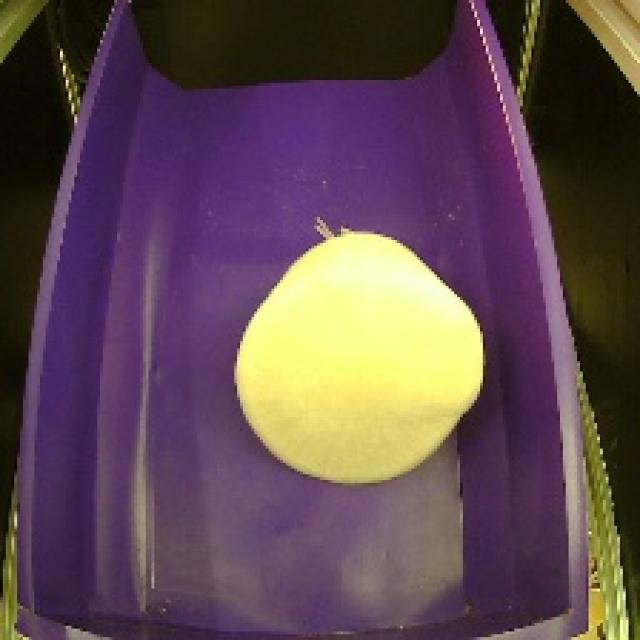white_radish: (217, 216, 499, 488)
